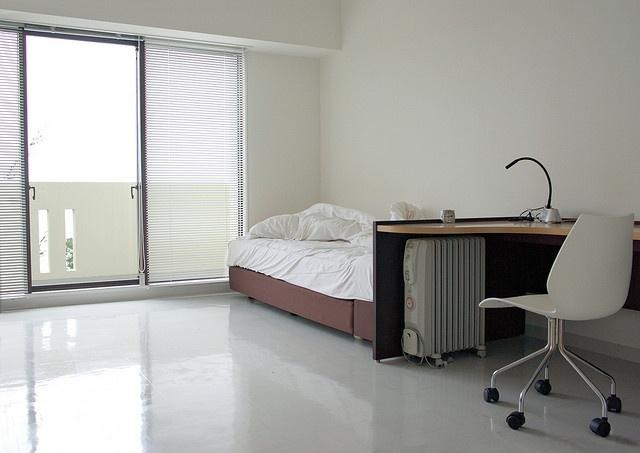Kursi: (475, 212, 636, 434)
